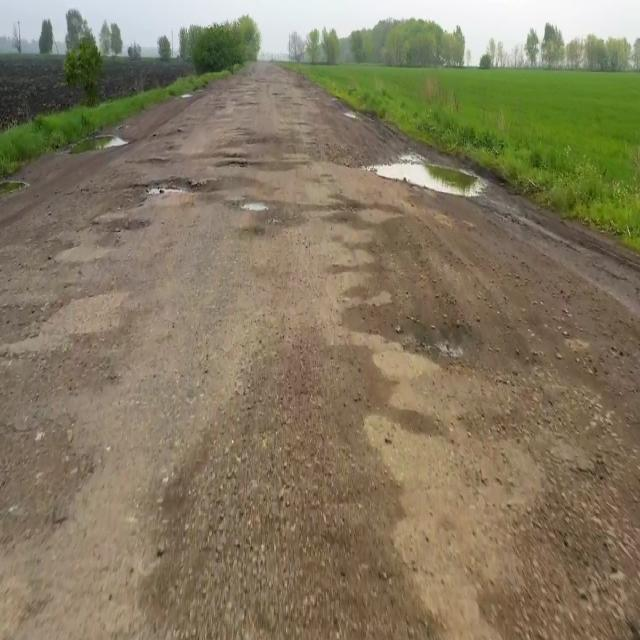Pothole: (340, 95, 528, 239), (126, 180, 230, 213), (226, 182, 282, 238), (100, 110, 152, 168)
